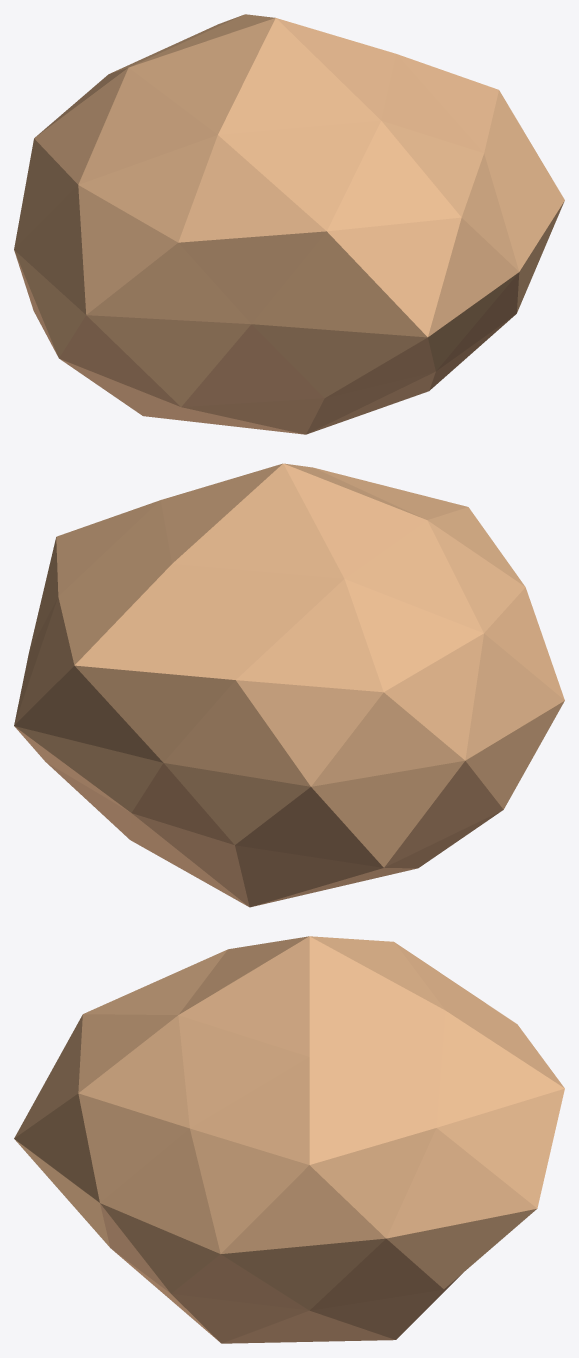
The model's file is SandRock_B.glb.
The picture shows the model from 3 angles, top to bottom: view 1: azimuth 30°, elevation 25°; view 2: azimuth 150°, elevation 25°; view 3: azimuth 270°, elevation 25°; orthographic projection. The views are drawn at different scales.
Parts seen in each view (by area): view 1: SandRock_B; view 2: SandRock_B; view 3: SandRock_B.
Boxes of the visible parts, left/top/right/bottom form: SandRock_B: left=14, top=14, right=564, bottom=434; SandRock_B: left=14, top=463, right=564, bottom=907; SandRock_B: left=14, top=936, right=564, bottom=1343.
Bounding box in the file's own units: 3.22 × 2.4 × 3.32.
